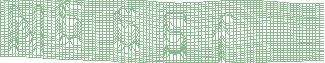5: (161, 11, 190, 62)
6: (111, 5, 143, 54), (53, 1, 86, 47)
N: (4, 2, 46, 58)
f: (211, 11, 236, 63)
